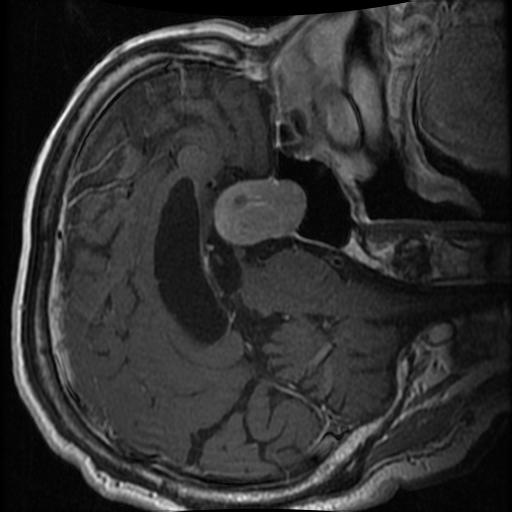pituitary tumour: (212, 177, 305, 246)
